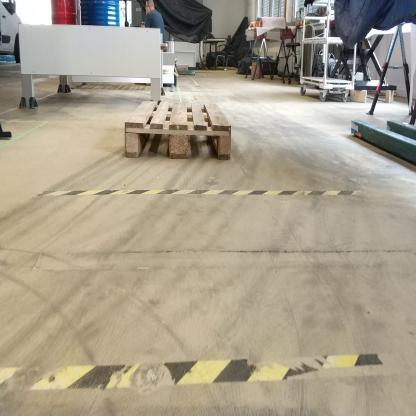BoxFace: (119, 90, 238, 169)
